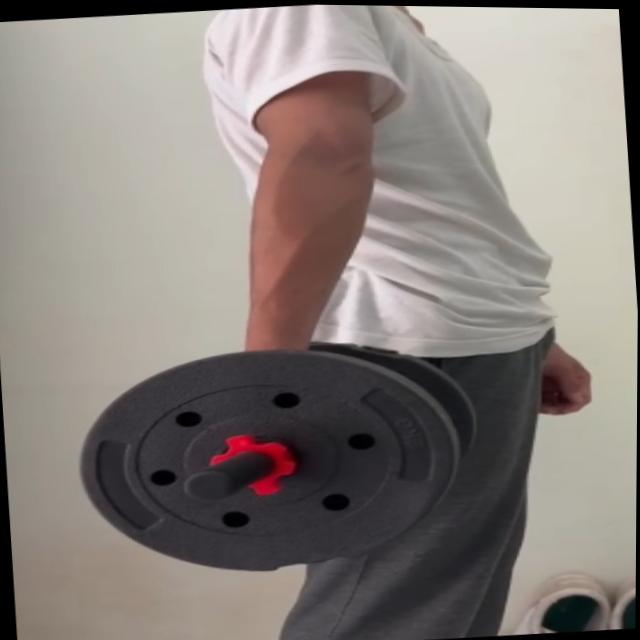dumbbell: (67, 327, 488, 588)
